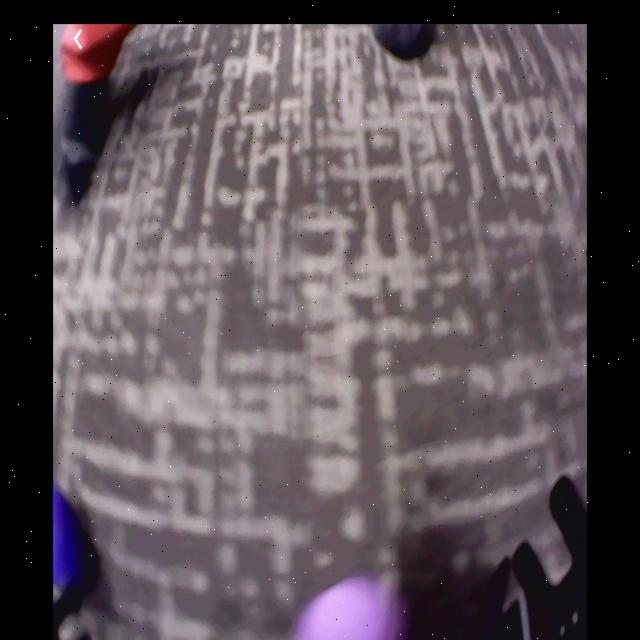ball: (297, 579, 399, 640), (54, 485, 84, 592)
